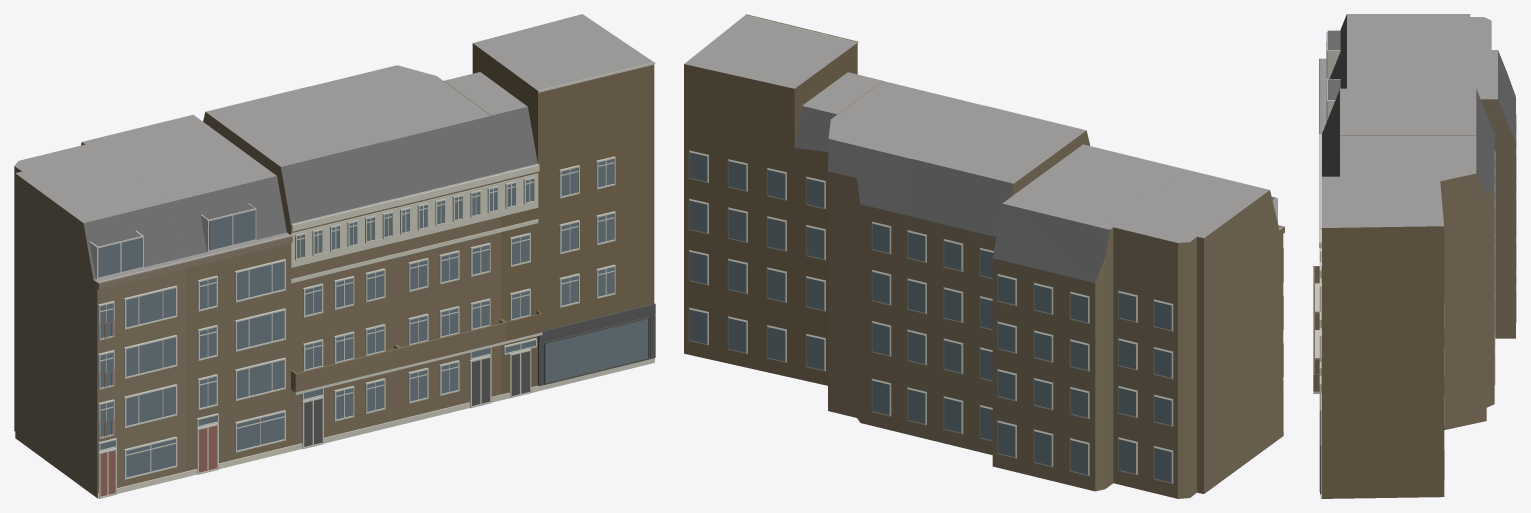
Rendered from chunk-face-evertsen-152-160.glb.
3 views of the same model, side by side, from view 1: azimuth 30°, elevation 25°; view 2: azimuth 150°, elevation 25°; view 3: azimuth 270°, elevation 25° (orthographic). The views are drawn at different scales.
Visible parts, largest first — view 1: face-evertsen-152-160; view 2: face-evertsen-152-160; view 3: face-evertsen-152-160.
Part boxes in pixels (x1,y1,x2,y2): face-evertsen-152-160: (14,14,655,498); face-evertsen-152-160: (684,14,1284,498); face-evertsen-152-160: (1313,14,1516,498).
Size of the model in its own units: 33.25 by 17.14 by 11.64.
